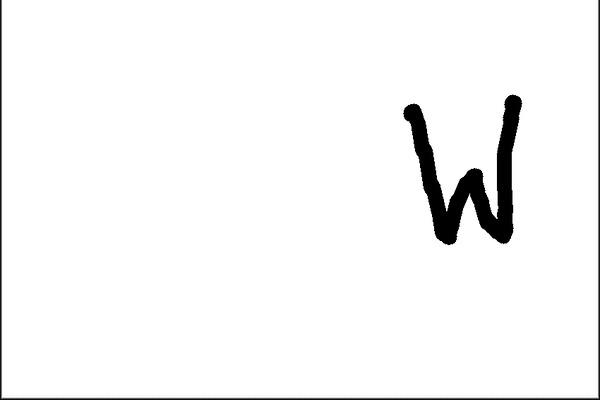w: (385, 78, 552, 256)
